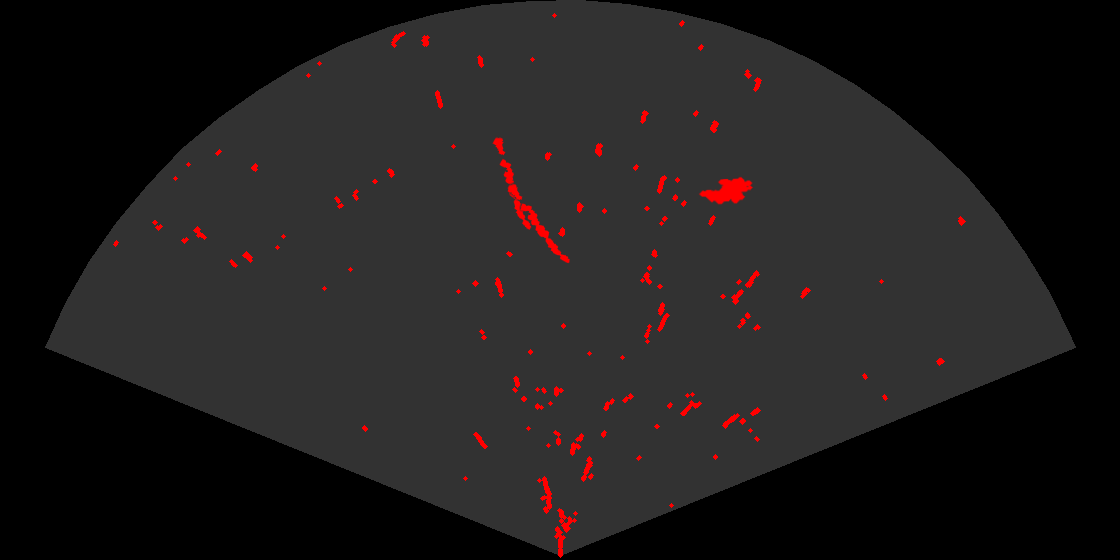AUV: (697, 175, 755, 206)
chain: (506, 182, 571, 265), (491, 135, 533, 231)
